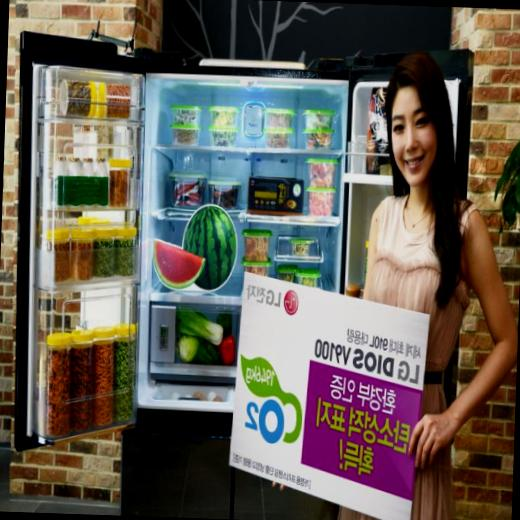Cherry: (182, 202, 240, 290), (151, 235, 205, 290)
